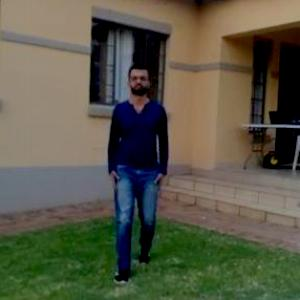follow: (106, 54, 170, 248)
